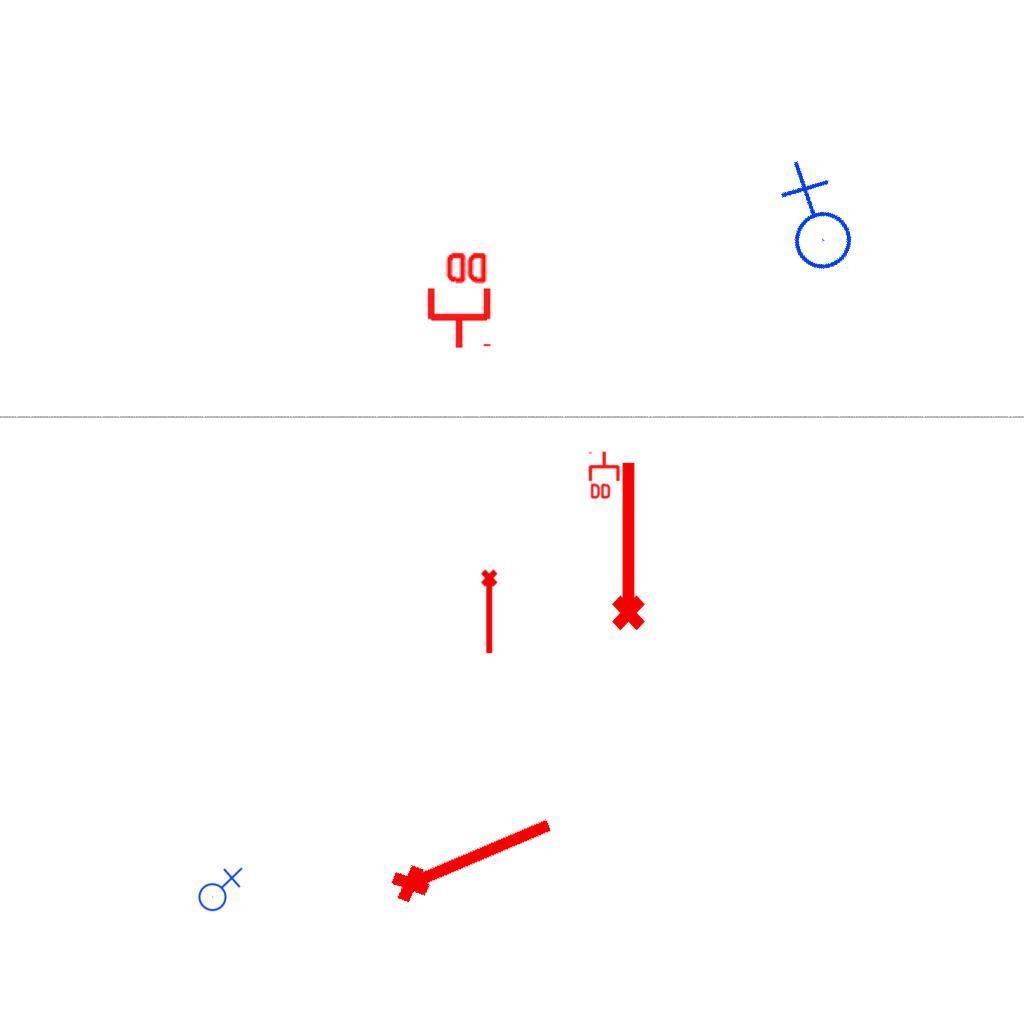ASR_Ansaugoeffnung: (382, 799, 562, 911), (603, 457, 649, 633), (479, 568, 502, 656)
Datenanschluss_zweifach: (423, 248, 492, 351), (588, 450, 622, 501)
Elektroanschluss_allgemein_230V_Geraeteanschlussdose_230V: (748, 157, 877, 287), (194, 865, 243, 912)
